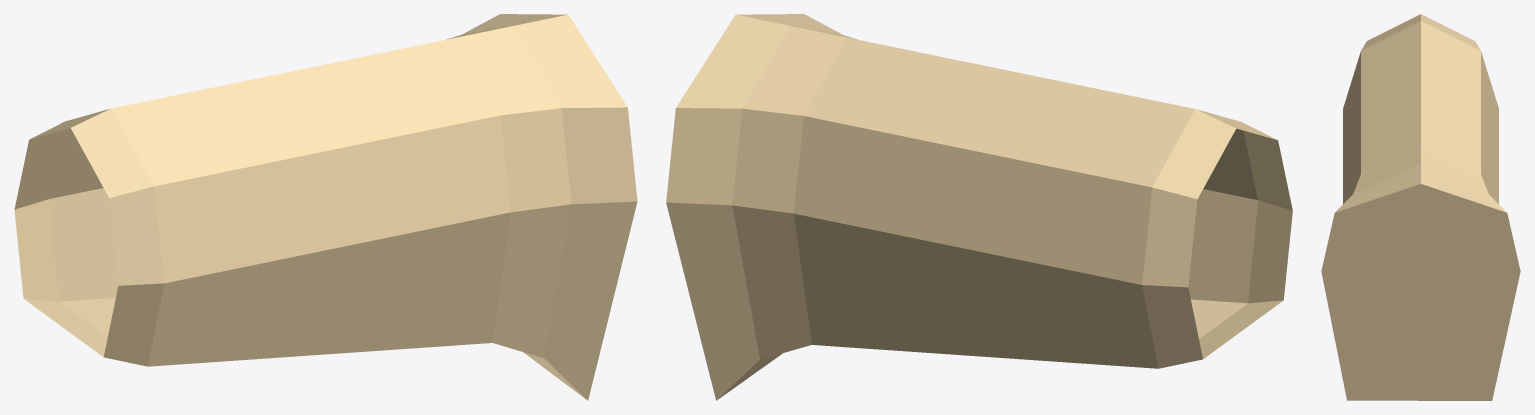
The model's file is RightArmShoulder.fbx.
The picture shows the model from 3 angles, left to right: view 1: azimuth 30°, elevation 25°; view 2: azimuth 150°, elevation 25°; view 3: azimuth 270°, elevation 25°; orthographic projection. The views are drawn at different scales.
Parts seen in each view (by area): view 1: RightArmShoulder; view 2: RightArmShoulder; view 3: RightArmShoulder.
Part boxes in pixels (x1,y1,x2,y2): RightArmShoulder: (14, 14, 637, 400); RightArmShoulder: (666, 14, 1292, 400); RightArmShoulder: (1321, 14, 1520, 400).
Bounding box in the file's own units: 100 × 67.62 × 50.81.
